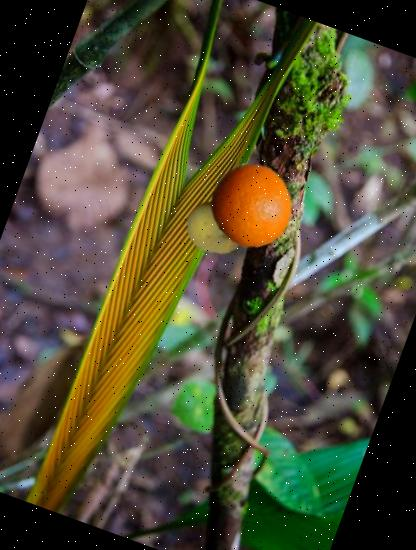Orange: (197, 152, 304, 260)
Peach: (175, 174, 276, 275)
